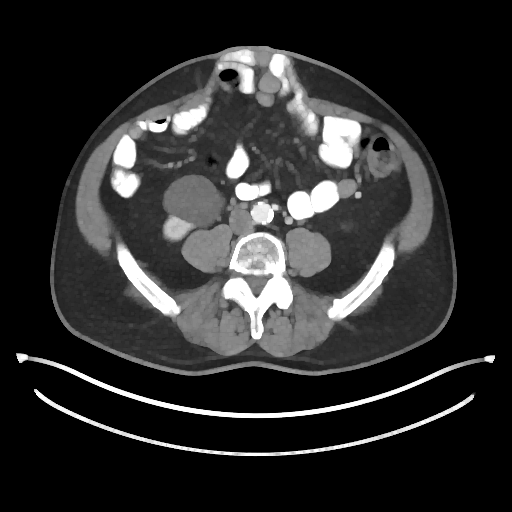Lesion: (162, 174, 226, 228)
